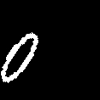chain: (1, 33, 37, 81)
